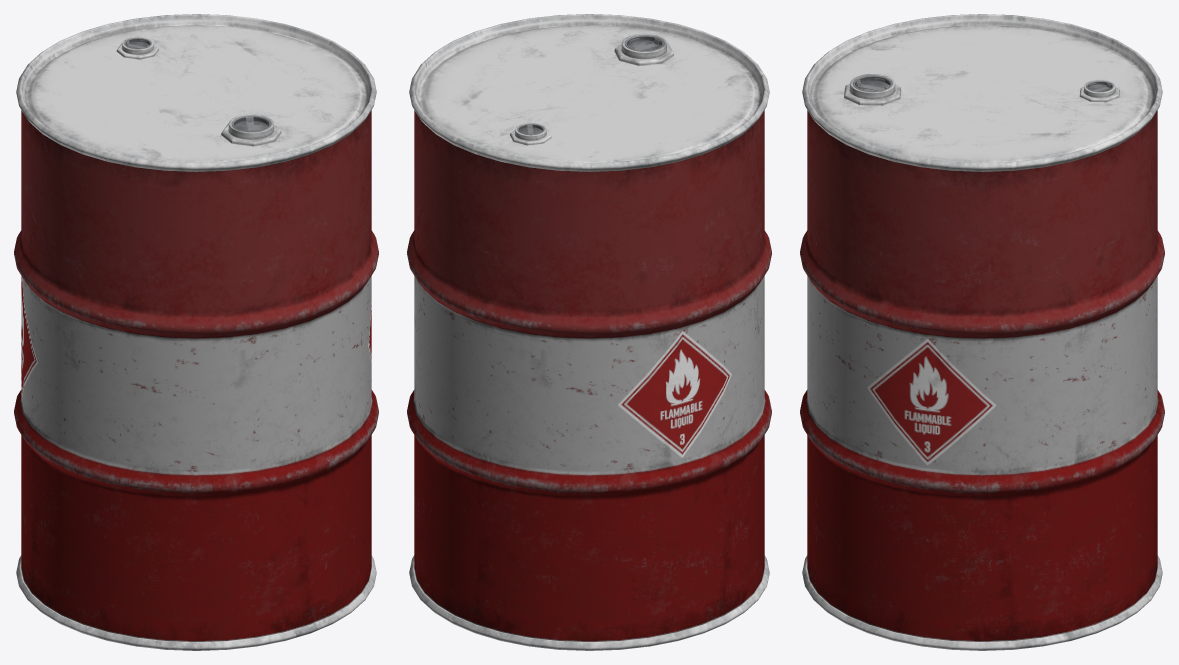
The model's file is ExplodingBarrel.gltf.
3 renders of one model, left to right at view 1: azimuth 30°, elevation 25°; view 2: azimuth 150°, elevation 25°; view 3: azimuth 270°, elevation 25°, orthographic.
Parts seen in each view (by area): view 1: Barrel_low; view 2: Barrel_low; view 3: Barrel_low.
Boxes of the visible parts, box(x1,y1,x2,y2) form: Barrel_low: box(14, 14, 378, 650); Barrel_low: box(407, 14, 771, 650); Barrel_low: box(800, 14, 1164, 650).
Size of the model in its own units: 48.35 by 72.11 by 48.35.
1 material, 1 textured.
